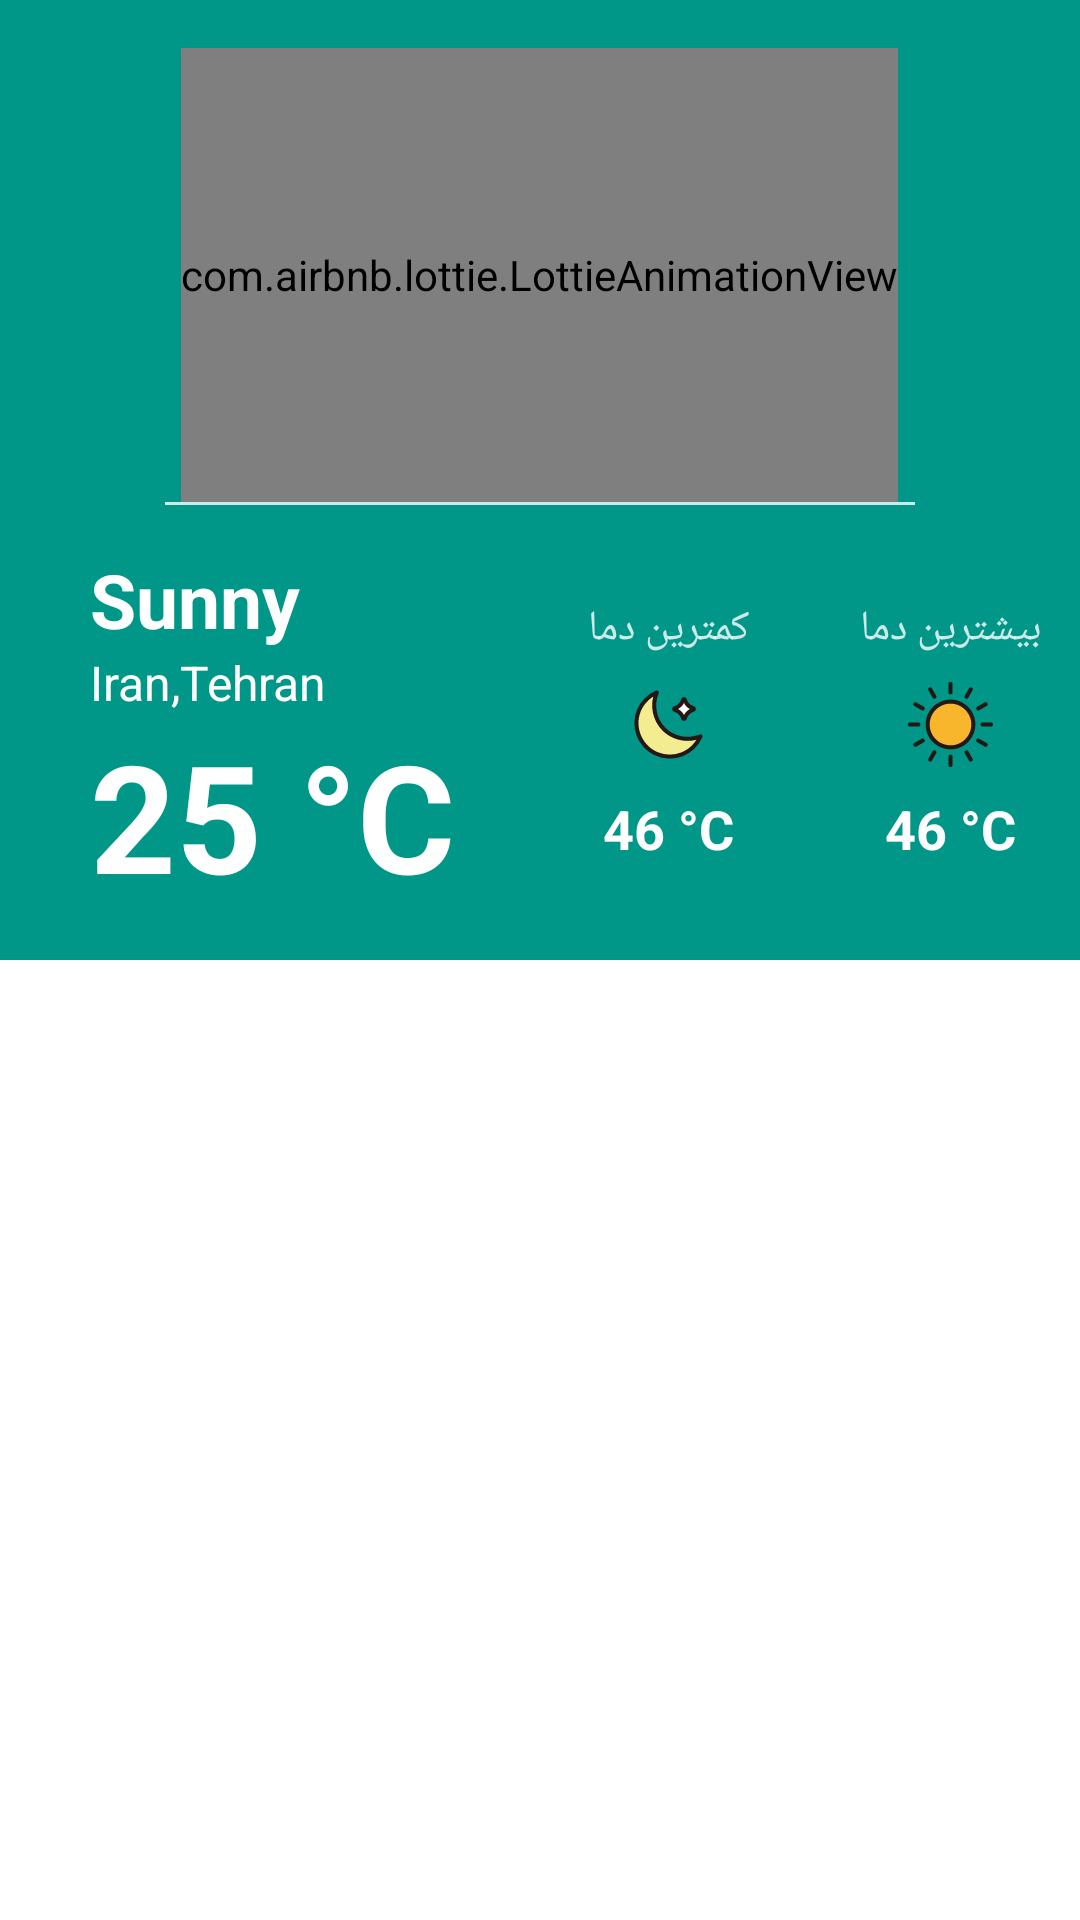

Icons on this 1080 x 1920 Android screen, each with the point to tap as (x=x, y=y):
moon: (x=668, y=724)
sun: (x=950, y=724)
